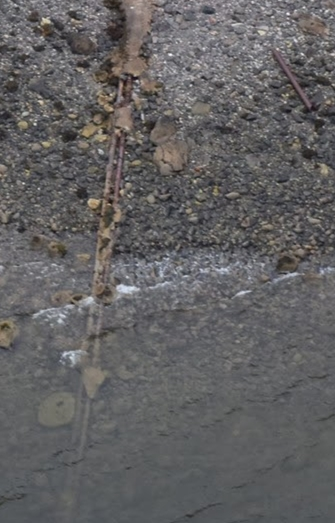straight_bar: (97, 72, 140, 196), (88, 206, 125, 305), (267, 46, 316, 116)
